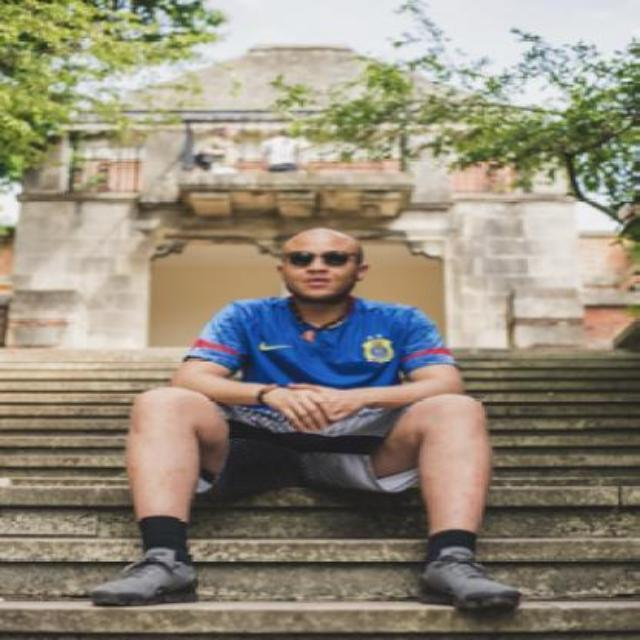sunglasses: (280, 252, 360, 264)
